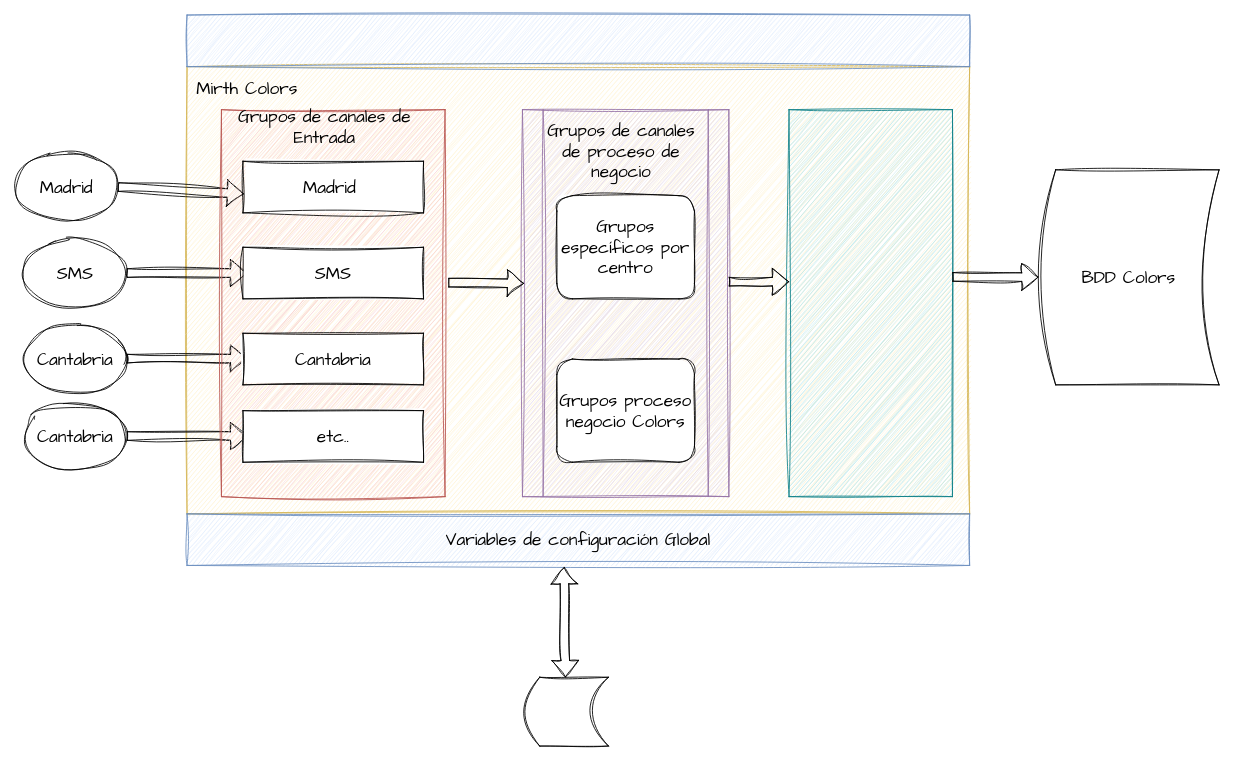
The diagram is 1234 pixels wide and 761 high, and some of its shapes have lost their labels. Each missing label, with the centre of its shape:
"BDD" belongs at point 565,711.
"Funciones Globales" belongs at point 578,40.
"Grupos de canales Back-End" belongs at point 870,303.
